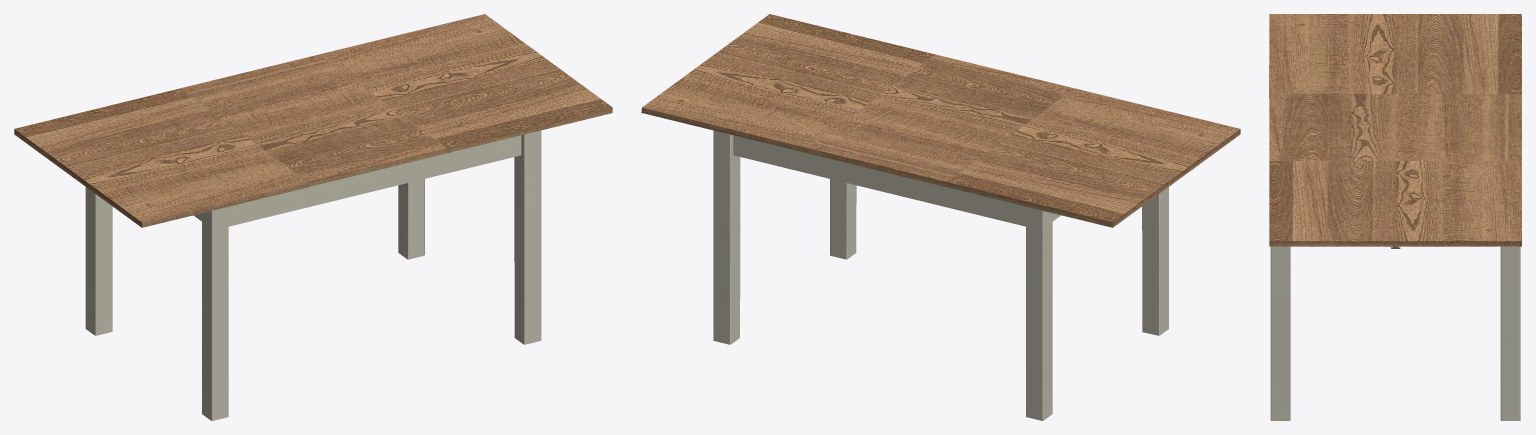
The model's file is 21 - ÅLHULT Extendable table - beigebrown 120170x80 cm.glb.
The picture shows the model from 3 angles, left to right: view 1: azimuth 30°, elevation 25°; view 2: azimuth 150°, elevation 25°; view 3: azimuth 270°, elevation 25°; orthographic projection.
Parts seen in each view (by area): view 1: ASY_ART_60597921_S01_NV01, ASY_LPT02_60597921_S01_NV01, ASY_LPT03_60597921_S01_NV01, ASY_LPT01_60597921_S01_NV01; view 2: ASY_ART_60597921_S01_NV01, ASY_LPT02_60597921_S01_NV01, ASY_LPT03_60597921_S01_NV01, ASY_LPT01_60597921_S01_NV01; view 3: ASY_LPT03_60597921_S01_NV01, ASY_LPT02_60597921_S01_NV01, ASY_LPT01_60597921_S01_NV01, ASY_ART_60597921_S01_NV01.
Part boxes in pixels (bbox=[...]): ASY_ART_60597921_S01_NV01: bbox=[85, 130, 541, 420]; ASY_LPT02_60597921_S01_NV01: bbox=[14, 88, 308, 227]; ASY_LPT03_60597921_S01_NV01: bbox=[319, 14, 612, 153]; ASY_LPT01_60597921_S01_NV01: bbox=[181, 54, 446, 186]; ASY_ART_60597921_S01_NV01: bbox=[713, 130, 1168, 420]; ASY_LPT02_60597921_S01_NV01: bbox=[946, 88, 1240, 227]; ASY_LPT03_60597921_S01_NV01: bbox=[641, 14, 935, 153]; ASY_LPT01_60597921_S01_NV01: bbox=[808, 54, 1073, 186]; ASY_LPT03_60597921_S01_NV01: bbox=[1269, 161, 1521, 248]; ASY_LPT02_60597921_S01_NV01: bbox=[1269, 14, 1521, 96]; ASY_LPT01_60597921_S01_NV01: bbox=[1269, 94, 1521, 160]; ASY_ART_60597921_S01_NV01: bbox=[1270, 246, 1520, 420].
Bounding box in the file's own units: 1.7 × 0.7494 × 0.7991.
4 materials, 4 textured.
